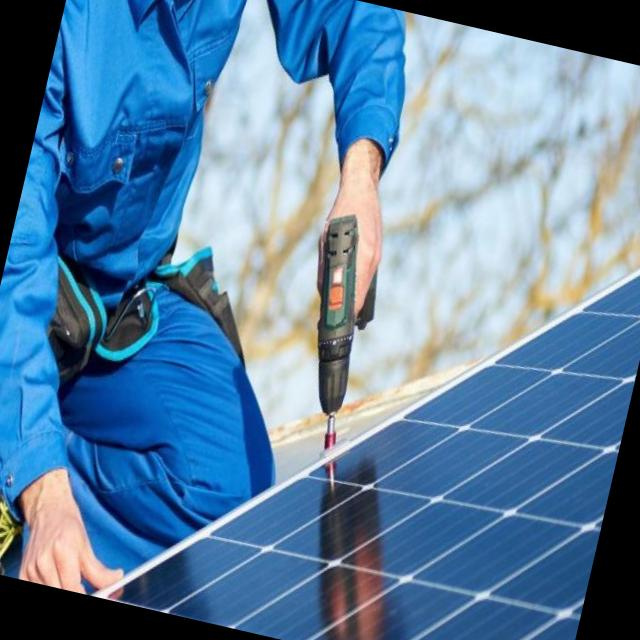no faulty: (105, 273, 640, 640)
